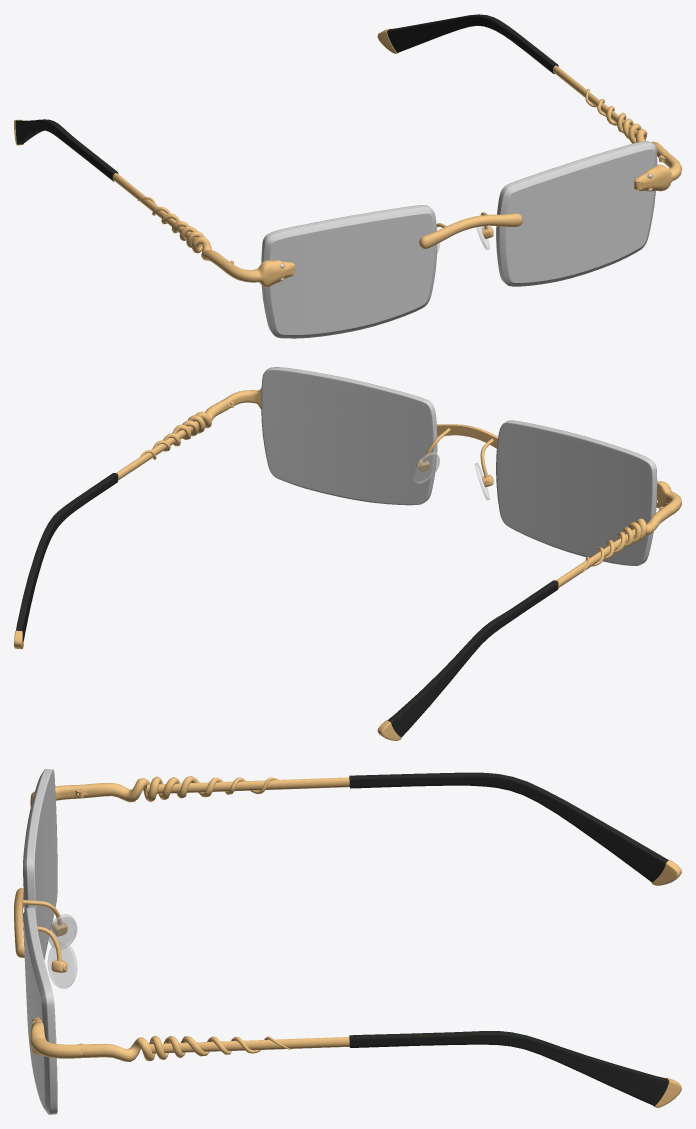
Rendered from glass.glb.
3 renders of one model, top to bottom at view 1: azimuth 30°, elevation 25°; view 2: azimuth 150°, elevation 25°; view 3: azimuth 270°, elevation 25°, orthographic. The views are drawn at different scales.
Parts seen in each view (by area): view 1: lenses, temple_left, frame, temple_right; view 2: lenses, temple_right, temple_left, frame, nosepads; view 3: temple_right, temple_left, lenses, frame, nosepads.
Boxes of the visible parts, left/top/right/bottom form: lenses: left=261, top=141, right=657, bottom=338; temple_left: left=377, top=14, right=669, bottom=162; frame: left=221, top=153, right=681, bottom=287; temple_right: left=14, top=119, right=227, bottom=269; lenses: left=261, top=367, right=657, bottom=565; temple_right: left=377, top=506, right=671, bottom=740; temple_left: left=14, top=399, right=229, bottom=648; frame: left=224, top=388, right=681, bottom=515; nosepads: left=412, top=452, right=489, bottom=500; temple_right: left=81, top=772, right=681, bottom=885; temple_left: left=81, top=1031, right=681, bottom=1107; lenses: left=23, top=769, right=57, bottom=1114; frame: left=14, top=784, right=87, bottom=1058; nosepads: left=47, top=914, right=77, bottom=988.
Bounding box in the file's own units: 2.06 × 0.5003 × 2.17.
Materials: 3 (1 with a texture image).
